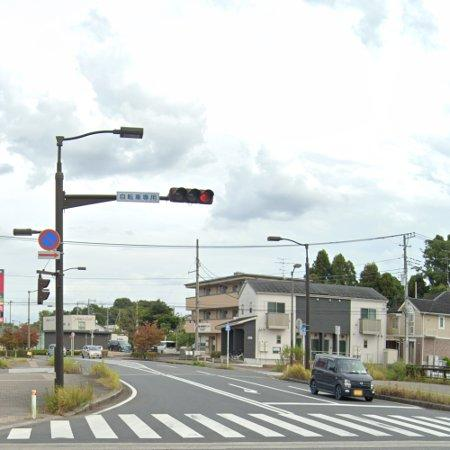crosswalks: (5, 412, 450, 440)
